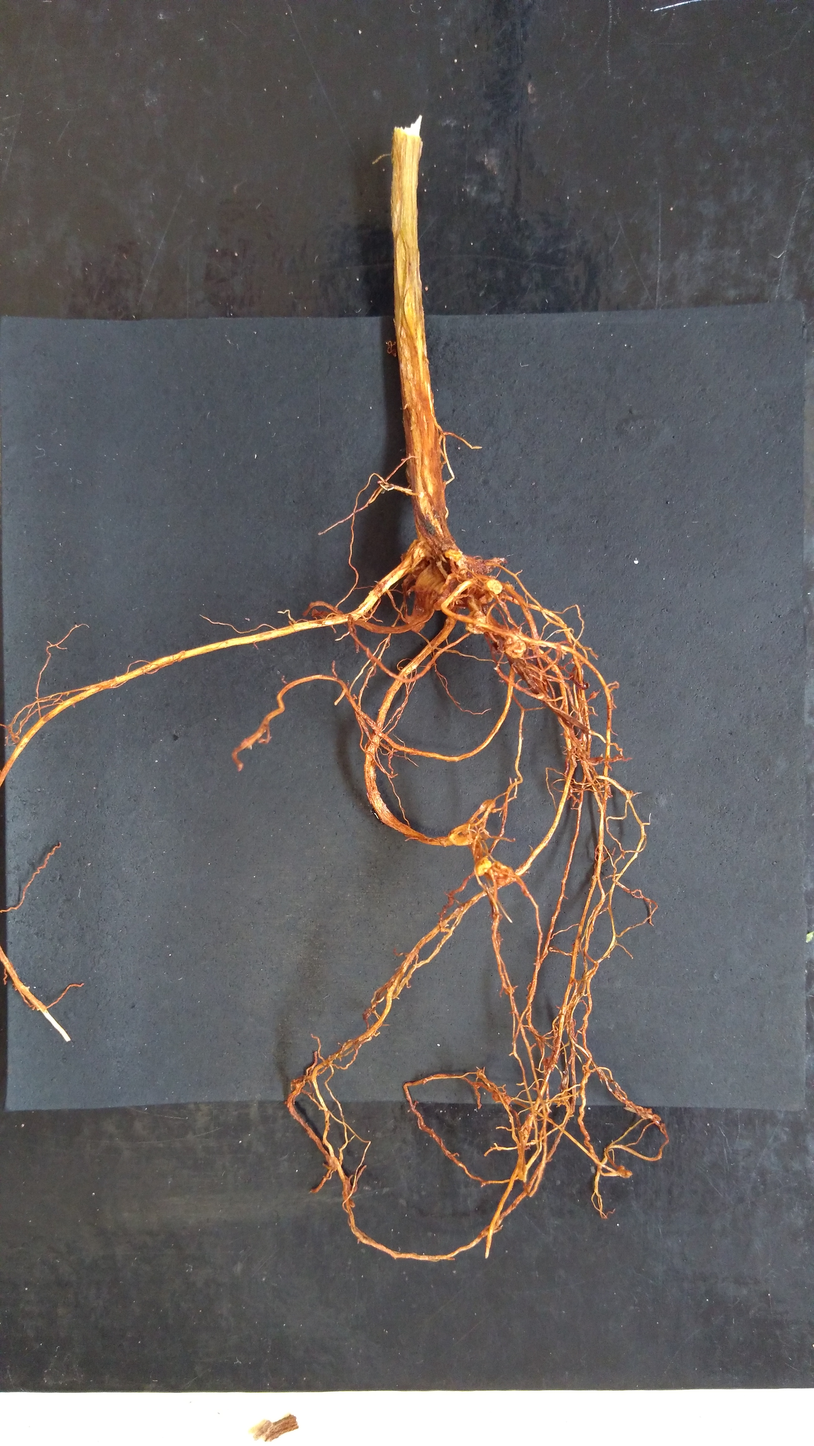nodule: (463, 609, 490, 637), (503, 633, 528, 658), (486, 578, 505, 597), (474, 858, 492, 877), (444, 548, 463, 563)
